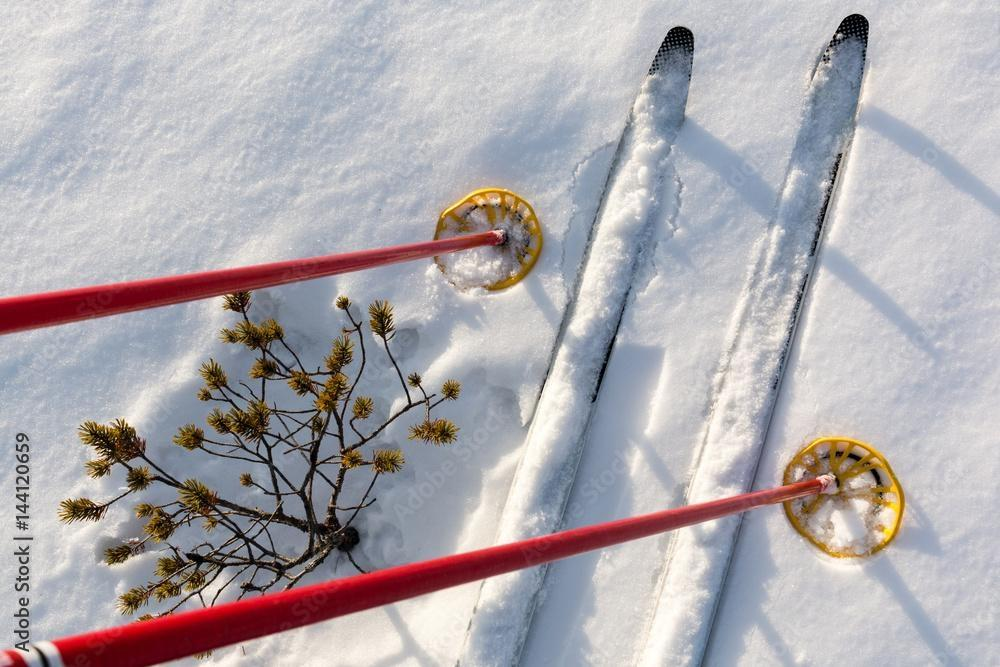Skis: (376, 0, 964, 667)
